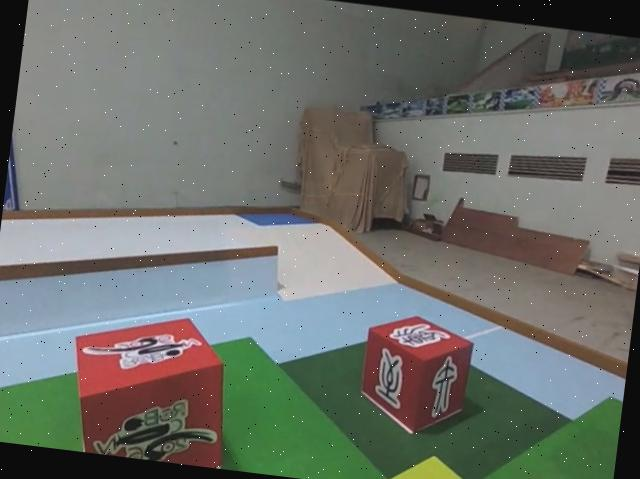R1: (59, 301, 240, 469)
R2 Fake: (353, 306, 478, 441)
